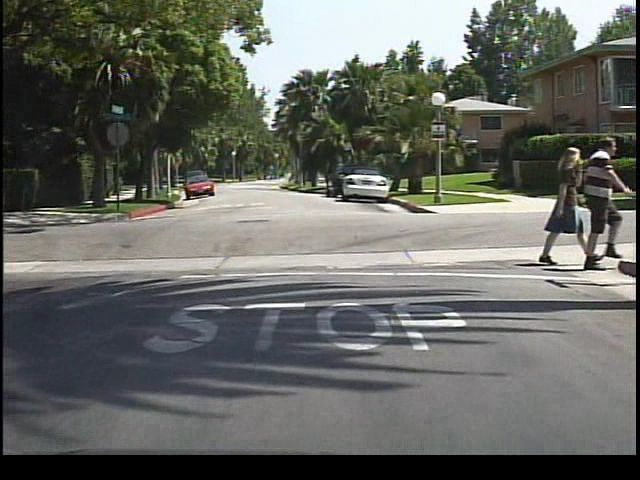person: (576, 134, 628, 276), (537, 144, 584, 268)
